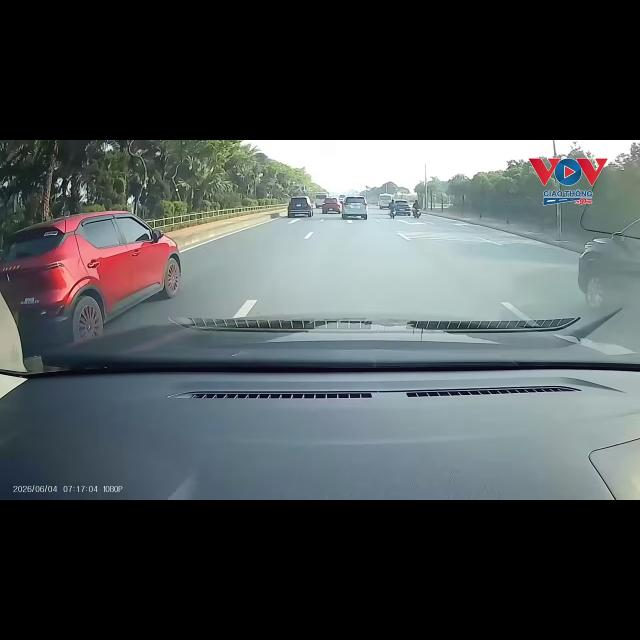car: (0, 211, 180, 344), (578, 220, 639, 312), (342, 196, 367, 219), (288, 196, 313, 217), (322, 198, 341, 213), (395, 199, 411, 215), (338, 196, 346, 204)
motorcycle: (413, 208, 420, 218), (390, 209, 395, 218)
